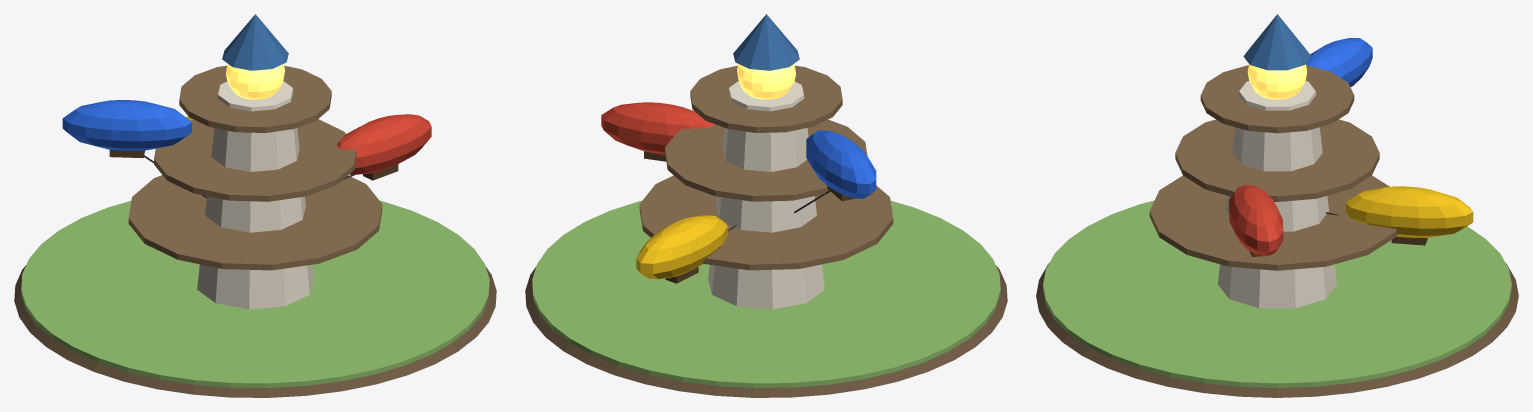
File: skyward-harbour.glb
The picture shows the model from 3 angles, left to right: view 1: azimuth 30°, elevation 25°; view 2: azimuth 150°, elevation 25°; view 3: azimuth 270°, elevation 25°; orthographic projection.
Visible parts, largest first — view 1: skyward-harbour; view 2: skyward-harbour; view 3: skyward-harbour.
Boxes of the visible parts, bbox=[...] form: skyward-harbour: bbox=[14, 14, 496, 397]; skyward-harbour: bbox=[525, 14, 1007, 397]; skyward-harbour: bbox=[1036, 14, 1518, 397].
Size of the model in its own units: 1.55 by 1 by 1.55.
